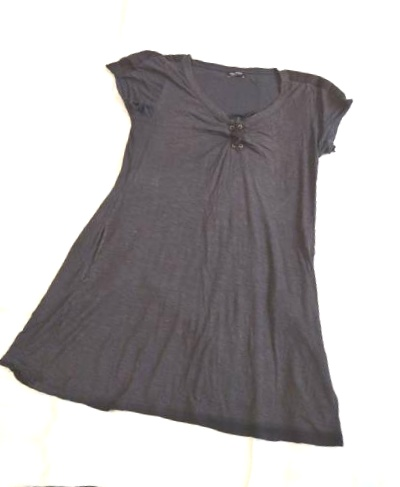Dress: (11, 15, 400, 462), (0, 460, 353, 487), (383, 67, 400, 487), (0, 0, 17, 406), (74, 0, 400, 5)
